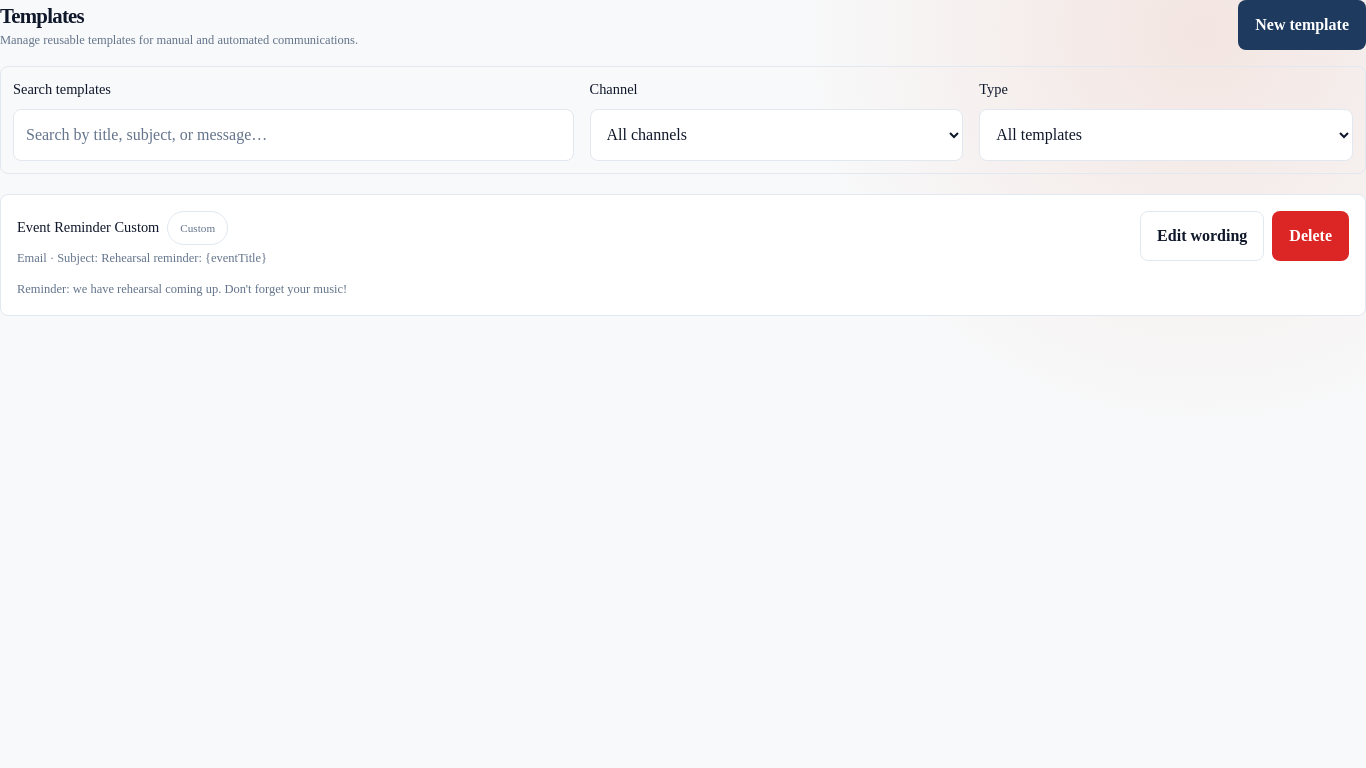
Scenario: TemplatesPanel › displays placeholder guidance when templates contain event-required placeholders
This screenshot has width=1366, height=768.
Expected: the element "Event Reminder Custom" is shown, [0,194,1365,316]
Click the button "Edit wording": {"x": 1202, "y": 236} [1140,211,1264,261]
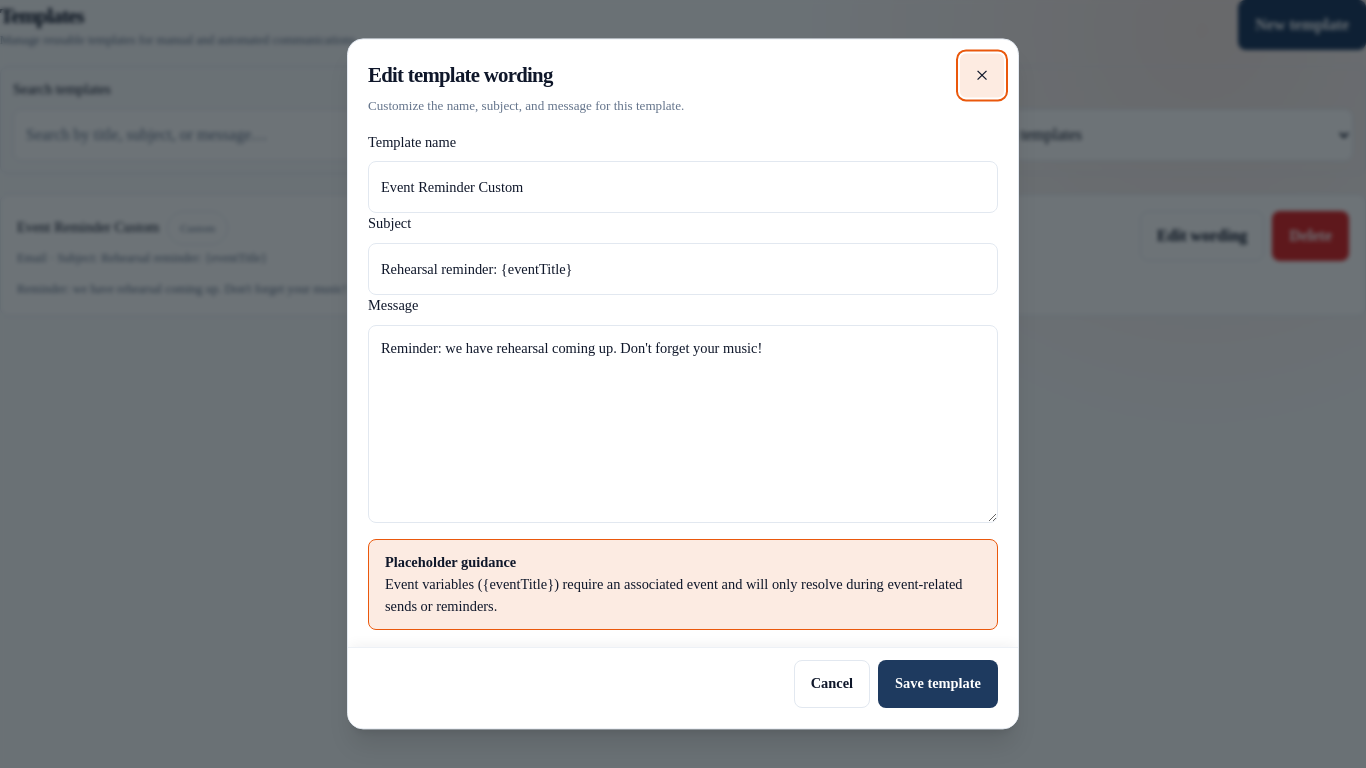
Expected: the element named "Template placeholder guidance" is shown, [368,540,998,630]
Expected: the element named "Template placeholder guidance" shows "Event variables ({eventTitle}) require an associated event and will only resolve during event-related sends or reminders.", [385,576,962,614]
